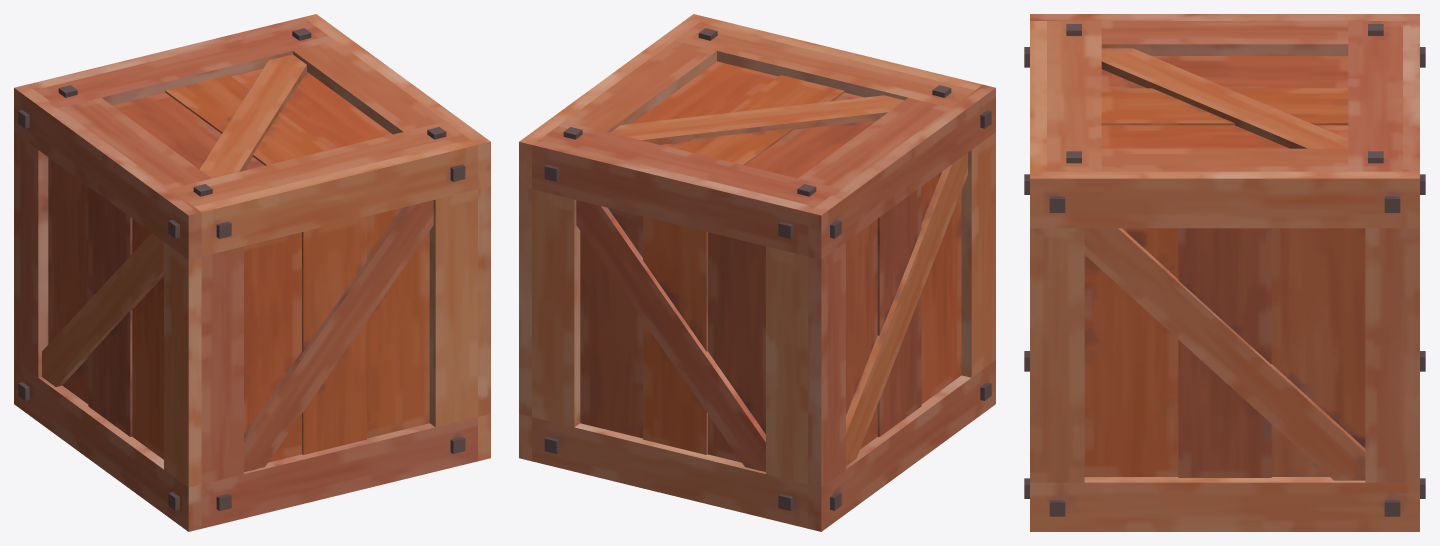
Rendered from crate.bundle.fbx.
3 views of the same model, side by side, from view 1: azimuth 30°, elevation 25°; view 2: azimuth 150°, elevation 25°; view 3: azimuth 270°, elevation 25° (orthographic). The views are drawn at different scales.
Parts seen in each view (by area): view 1: crate, crate_low, crate_s06, crate_s02, crate_s03, crate_s04, crate_s07, crate_s01, crate_s05; view 2: crate, crate_low, crate_s01, crate_s06, crate_s05, crate_s07, crate_s04, crate_s00, crate_s02; view 3: crate, crate_low, crate_s01, crate_s02, crate_s00, crate_s04, crate_s03, crate_s07, crate_s06.
Boxes of the visible parts, x1=… form: crate: x1=15, y1=16, x2=487, y2=527; crate_low: x1=14, y1=14, x2=490, y2=531; crate_s06: x1=75, y1=163, x2=305, y2=482; crate_s02: x1=292, y1=68, x2=490, y2=359; crate_s03: x1=177, y1=288, x2=490, y2=529; crate_s04: x1=152, y1=74, x2=319, y2=184; crate_s07: x1=14, y1=54, x2=170, y2=278; crate_s01: x1=154, y1=15, x2=390, y2=113; crate_s05: x1=14, y1=270, x2=137, y2=437; crate: x1=522, y1=16, x2=994, y2=527; crate_low: x1=519, y1=14, x2=995, y2=531; crate_s01: x1=519, y1=87, x2=719, y2=426; crate_s06: x1=872, y1=63, x2=995, y2=410; crate_s05: x1=671, y1=350, x2=927, y2=530; crate_s07: x1=682, y1=127, x2=917, y2=405; crate_s04: x1=696, y1=76, x2=905, y2=354; crate_s00: x1=519, y1=333, x2=683, y2=465; crate_s02: x1=594, y1=14, x2=878, y2=104; crate: x1=1024, y1=15, x2=1425, y2=528; crate_low: x1=1030, y1=14, x2=1419, y2=531; crate_s01: x1=1205, y1=90, x2=1419, y2=383; crate_s02: x1=1030, y1=74, x2=1252, y2=443; crate_s00: x1=1130, y1=352, x2=1419, y2=531; crate_s04: x1=1042, y1=29, x2=1377, y2=139; crate_s03: x1=1030, y1=408, x2=1158, y2=531; crate_s07: x1=1172, y1=14, x2=1419, y2=91; crate_s06: x1=1030, y1=14, x2=1180, y2=71.
Size of the model in its own units: 3.09 by 3.05 by 3.09.
1 material, 1 textured.
